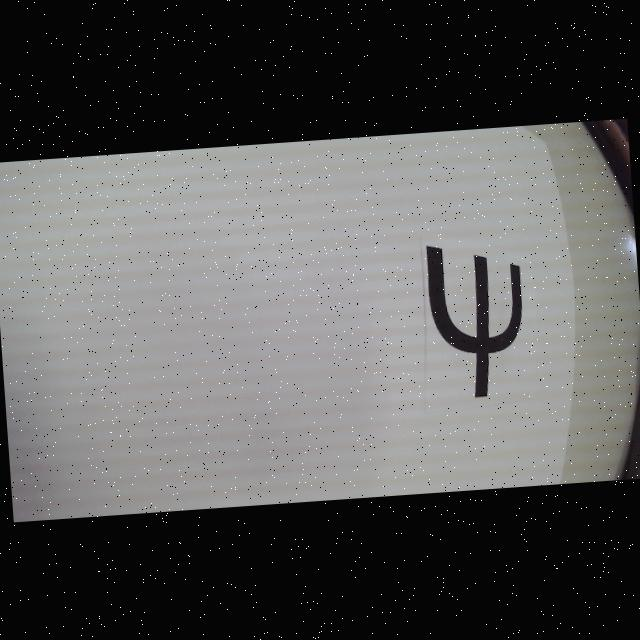PSI: (426, 238, 530, 400)
